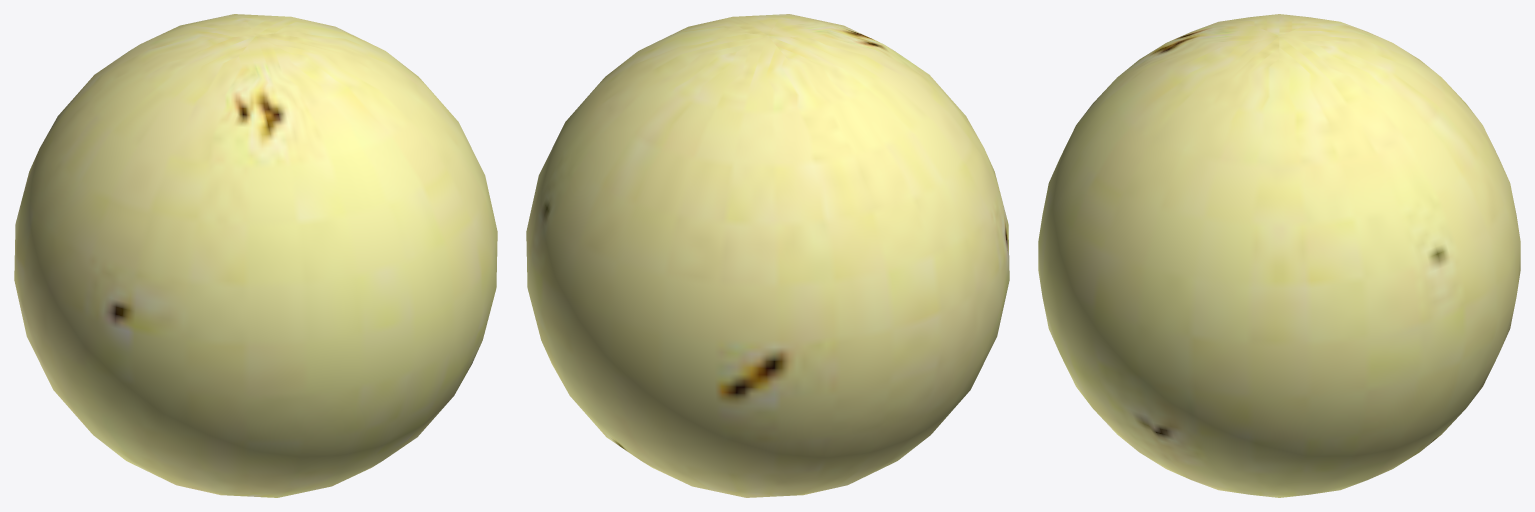
File: Sun.fbx
3 renders of one model, left to right at view 1: azimuth 30°, elevation 25°; view 2: azimuth 150°, elevation 25°; view 3: azimuth 270°, elevation 25°, orthographic.
Parts seen in each view (by area): view 1: LowPoly_Sun; view 2: LowPoly_Sun; view 3: LowPoly_Sun.
Boxes of the visible parts, bbox=[...] form: LowPoly_Sun: bbox=[14, 14, 497, 497]; LowPoly_Sun: bbox=[526, 14, 1009, 497]; LowPoly_Sun: bbox=[1038, 14, 1520, 497].
Size of the model in its own units: 78.72 by 79.1 by 78.61.
